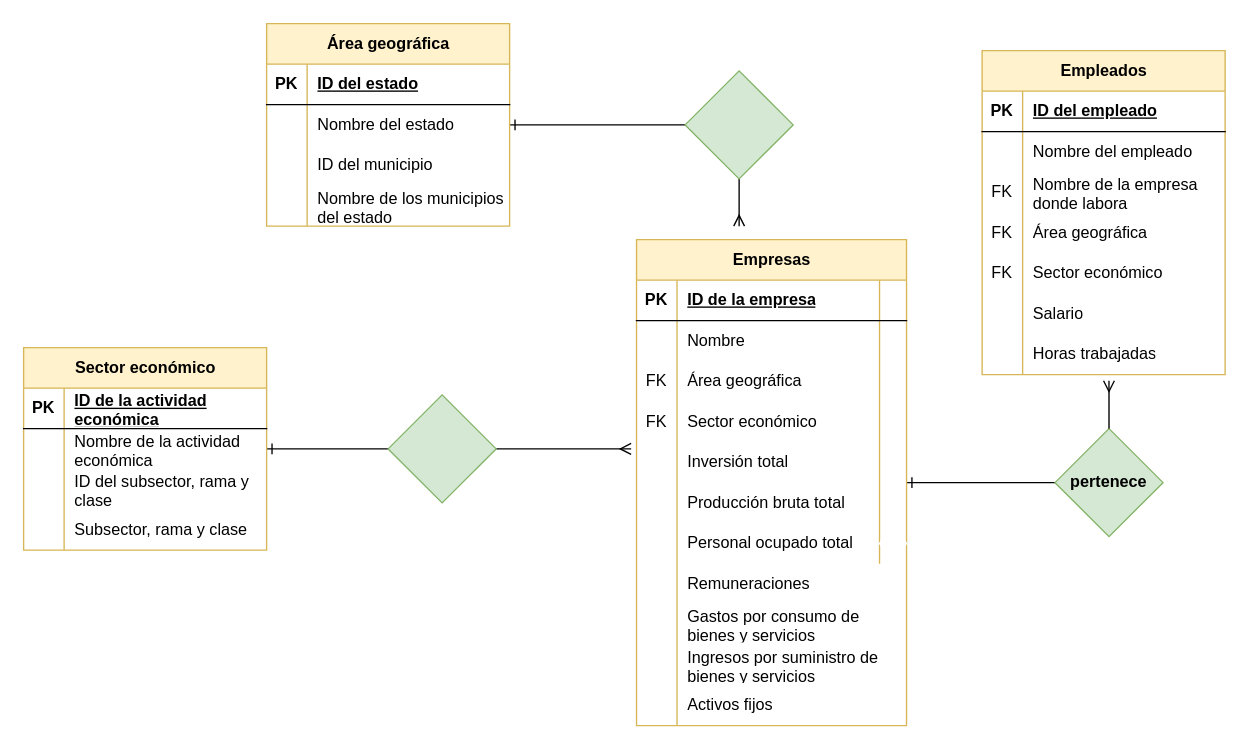
The diagram is 1249 pixels wide and 749 high, and some of its shapes have lost their labels. The centre of each missing label's shape, as x and y in pixels:
alberga: pixel 738 124
engloba: pixel 441 448
